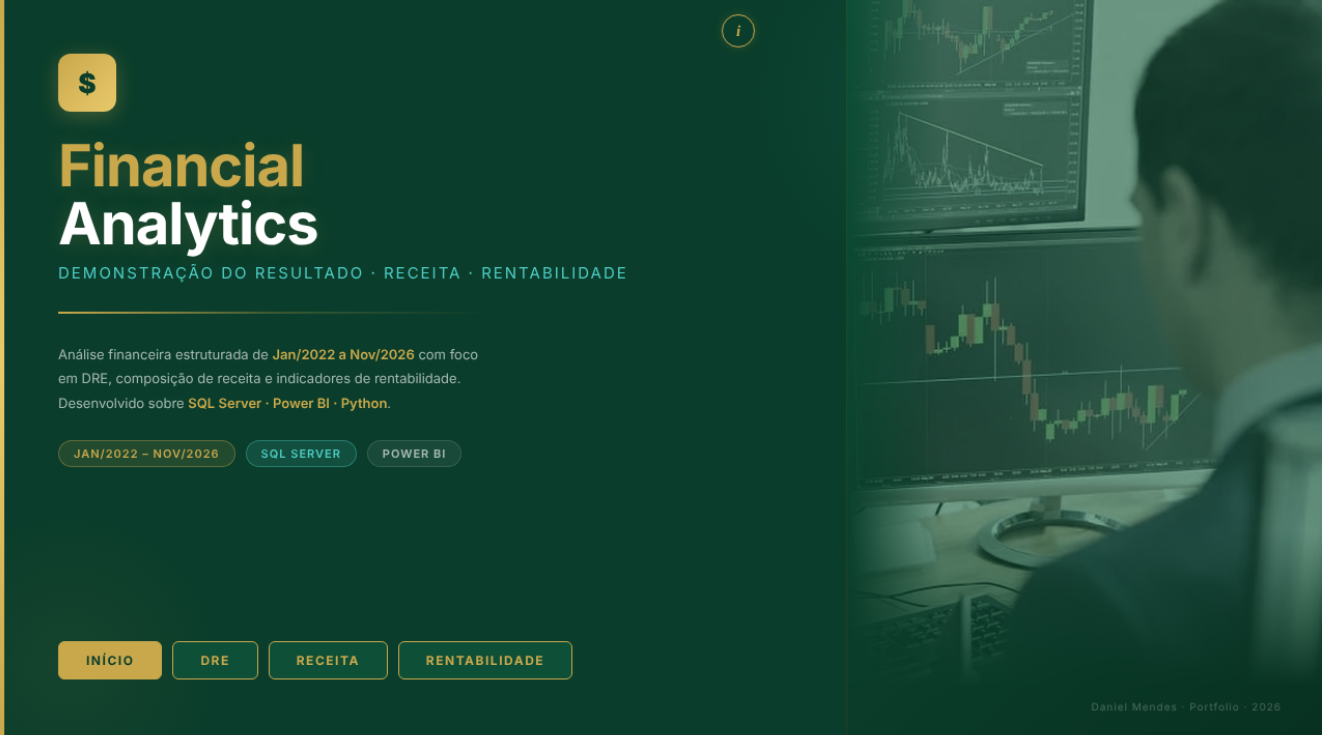

This screenshot's page, from the dashboard's own definition file:
{"tool":"powerbi","page":{"name":"Início","canvas":[1920,1080],"ordinal":0},"visuals":[{"type":"actionButton","box":[94.7,942.7,140,43.2],"z":0},{"type":"actionButton","box":[259.3,942.7,113.2,43.2],"z":1000},{"type":"actionButton","box":[401.4,942.7,158.5,43.2],"z":2000},{"type":"actionButton","box":[588.7,942.7,234.6,43.2],"z":3000},{"type":"actionButton","box":[1051.8,28.8,45.3,49.4],"z":4000}]}

Visuals, with their boxes in screenshot pixels (x1, y1, x2, y2), scaled from the page's 1920x1080 canvas onto the 1322x735 screenshot:
actionButton: select_region(65, 642, 162, 671)
actionButton: select_region(179, 642, 256, 671)
actionButton: select_region(276, 642, 386, 671)
actionButton: select_region(405, 642, 567, 671)
actionButton: select_region(724, 20, 755, 53)
